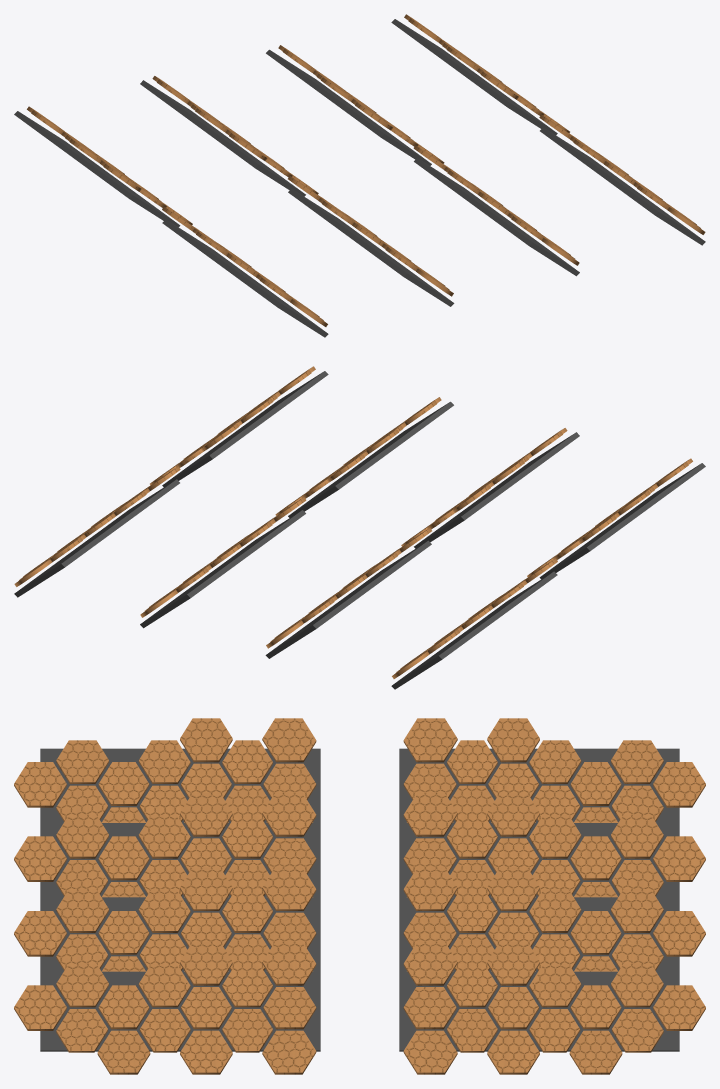
The model's file is solar_panel_field.fbx.
The picture shows the model from 3 angles, top to bottom: view 1: azimuth 30°, elevation 25°; view 2: azimuth 150°, elevation 25°; view 3: azimuth 270°, elevation 25°; orthographic projection. The views are drawn at different scales.
Parts seen in each view (by area): view 1: solar panel field; view 2: solar panel field; view 3: solar panel field.
Boxes of the visible parts, box(x1,y1,x2,y2) form: solar panel field: box(14, 14, 705, 337); solar panel field: box(14, 366, 705, 689); solar panel field: box(14, 718, 705, 1074).
Size of the model in its own units: 203 by 31.3 by 220.
